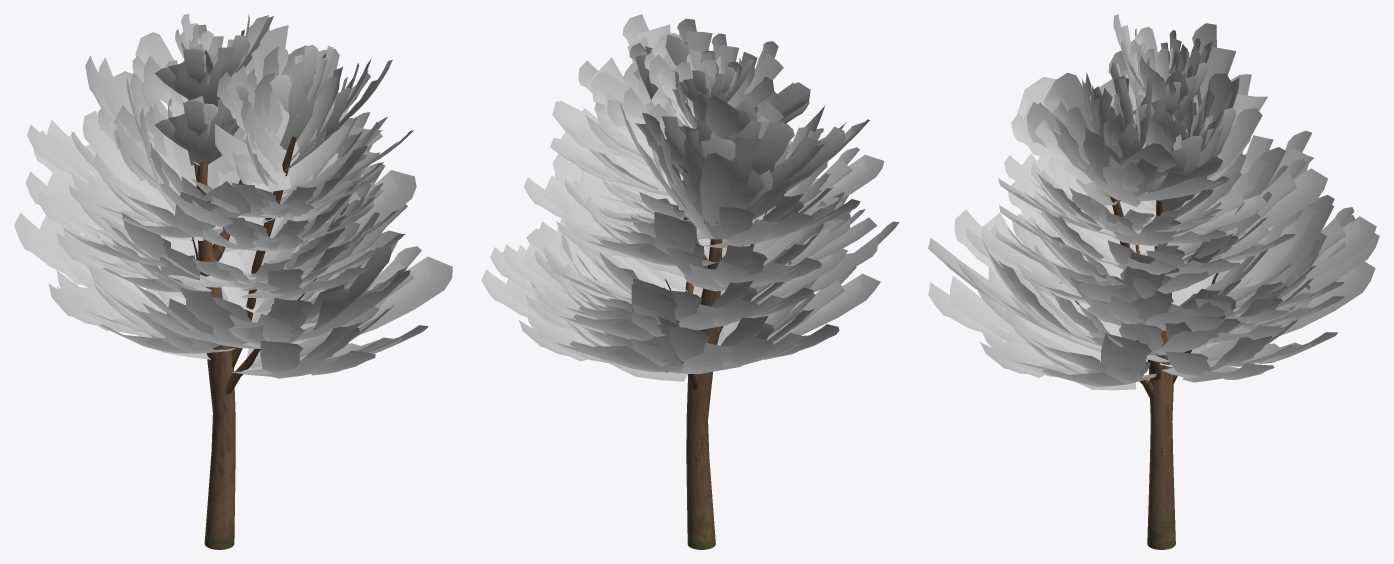
File: Maple_1.fbx
3 renders of one model, left to right at view 1: azimuth 30°, elevation 25°; view 2: azimuth 150°, elevation 25°; view 3: azimuth 270°, elevation 25°, orthographic. The views are drawn at different scales.
Visible parts, largest first — view 1: pPlane103; view 2: pPlane103; view 3: pPlane103.
Boxes of the visible parts, x1=… form: pPlane103: x1=14, y1=14, x2=452, y2=549; pPlane103: x1=481, y1=14, x2=899, y2=549; pPlane103: x1=928, y1=14, x2=1379, y2=549.
Size of the model in its own units: 342 by 490 by 398.
